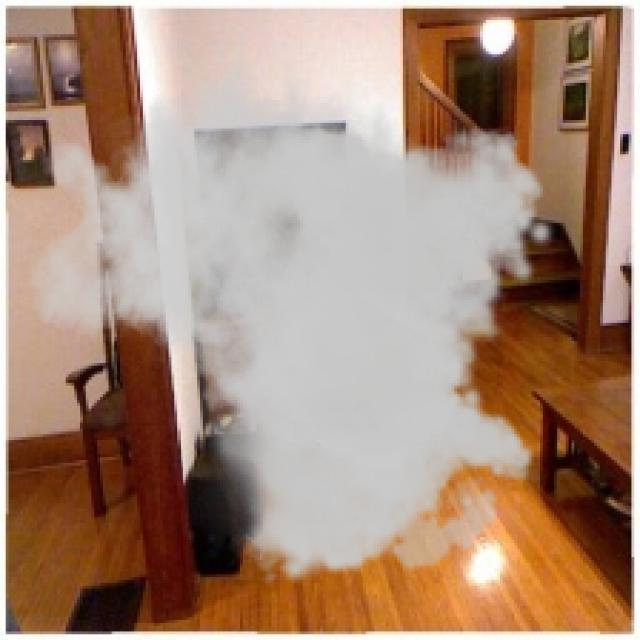Smoke: (25, 31, 558, 586)
